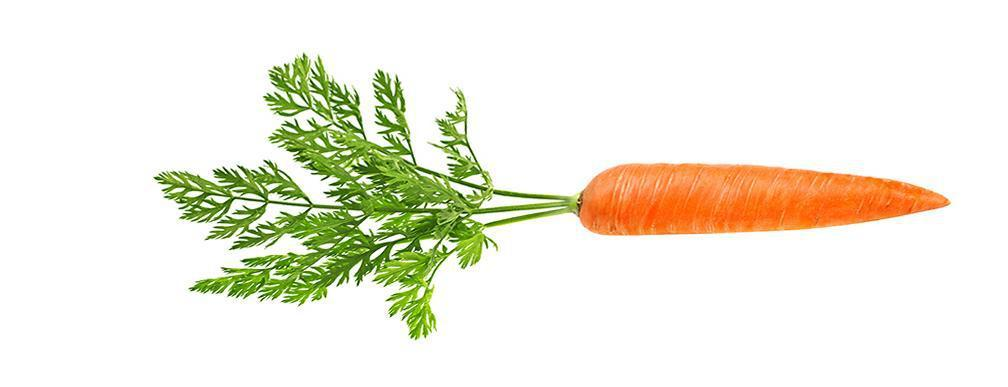carrot: (163, 85, 951, 291)
